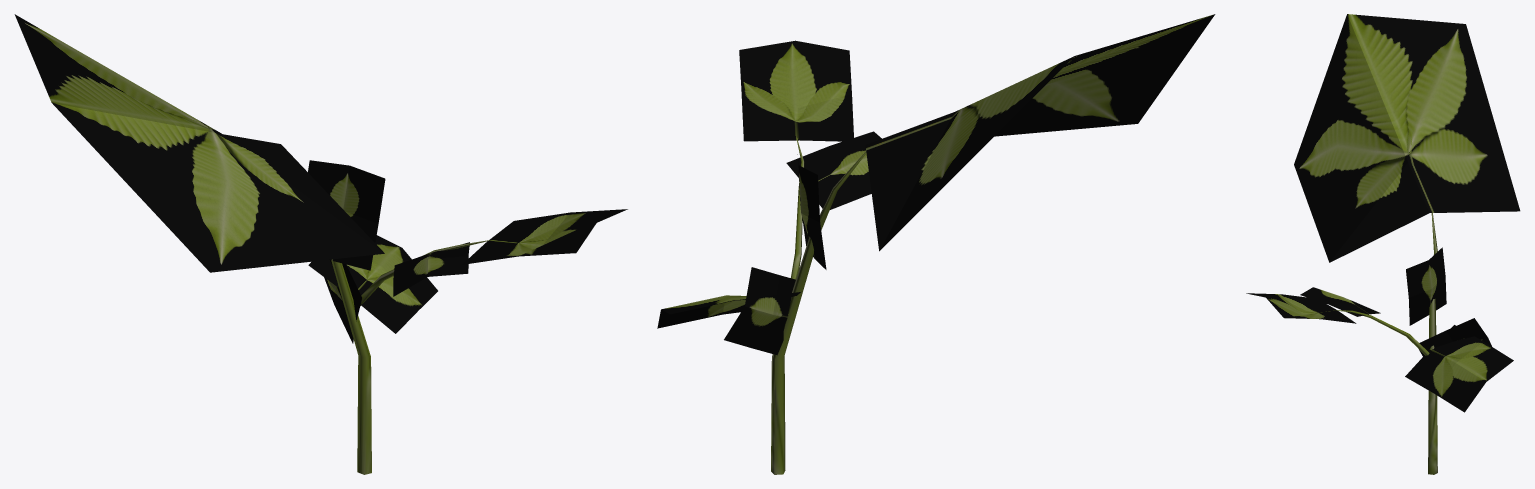
File: weed_stage_1.fbx
3 renders of one model, left to right at view 1: azimuth 30°, elevation 25°; view 2: azimuth 150°, elevation 25°; view 3: azimuth 270°, elevation 25°, orthographic. The views are drawn at different scales.
Visible parts, largest first — view 1: weed_stage_1; view 2: weed_stage_1; view 3: weed_stage_1.
Part boxes in pixels (x1,y1,x2,y2): weed_stage_1: [14, 14, 627, 474]; weed_stage_1: [657, 14, 1215, 474]; weed_stage_1: [1246, 14, 1520, 474].
Size of the model in its own units: 19.12 by 17.89 by 13.02.
